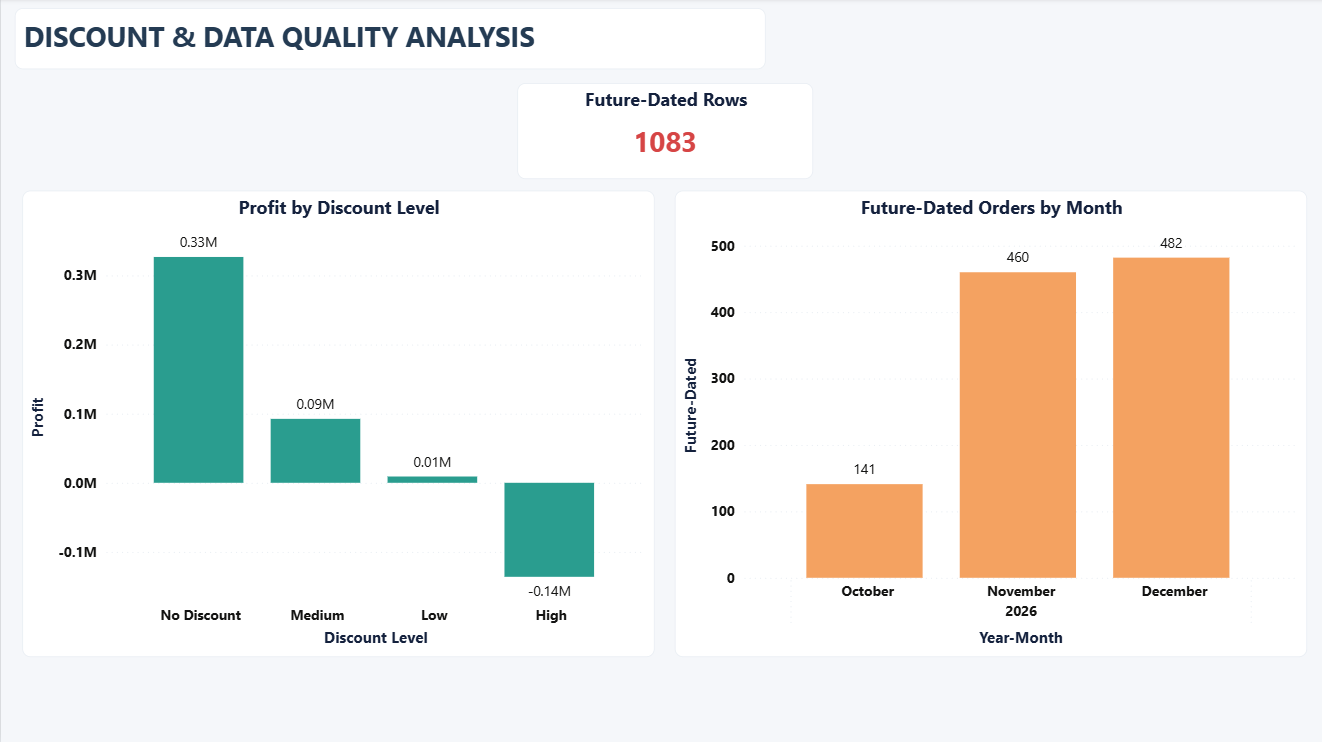

The dashboard page shown, as its layout file describes it:
{"tool":"powerbi","page":{"name":"Discount & Data Quality","canvas":[1280,720],"ordinal":2},"visuals":[{"type":"textbox","box":[13.3,9.7,725,59.1],"z":0},{"type":"clusteredColumnChart","title":"Profit by Discount Level","fields":{"Category":["sales_performance orders.Discount Level"],"Y":["sales_performance orders.Total Profit"]},"box":[20,185.2,610,450],"z":1000},{"type":"card","title":"Future-Dated Rows","fields":{"Values":["sales_performance orders.Future-Dated Rows"]},"box":[498,82,285.9,92.9],"z":2000},{"type":"clusteredColumnChart","title":"Future-Dated Orders by Month","fields":{"Y":["sales_performance orders.Future-Dated Rows"],"Category":["sales_performance orders.order_date.Variation.Date Hierarchy.Year","sales_performance orders.order_date.Variation.Date Hierarchy.Month"]},"box":[650,185.2,610,450],"z":3000}]}

Visuals, with their boxes in screenshot pixels (x1, y1, x2, y2), scaled from the page's 1280x720 canvas onto the 1322x742 screenshot:
textbox: (x1=14, y1=10, x2=763, y2=71)
"Profit by Discount Level" clusteredColumnChart: (x1=21, y1=191, x2=651, y2=655)
"Future-Dated Rows" card: (x1=514, y1=85, x2=810, y2=180)
"Future-Dated Orders by Month" clusteredColumnChart: (x1=671, y1=191, x2=1301, y2=655)
